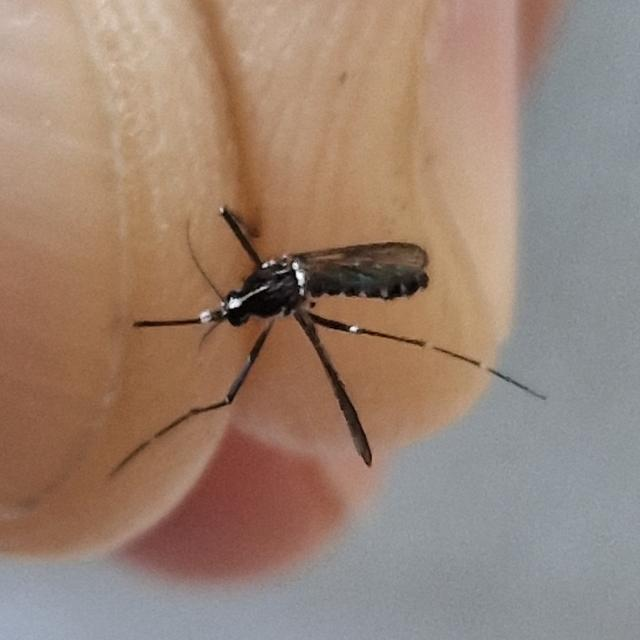albopictus: (116, 178, 534, 499)
